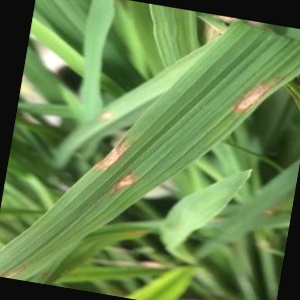Brown_Spot: (218, 61, 293, 127), (80, 119, 137, 176), (98, 166, 152, 205)
